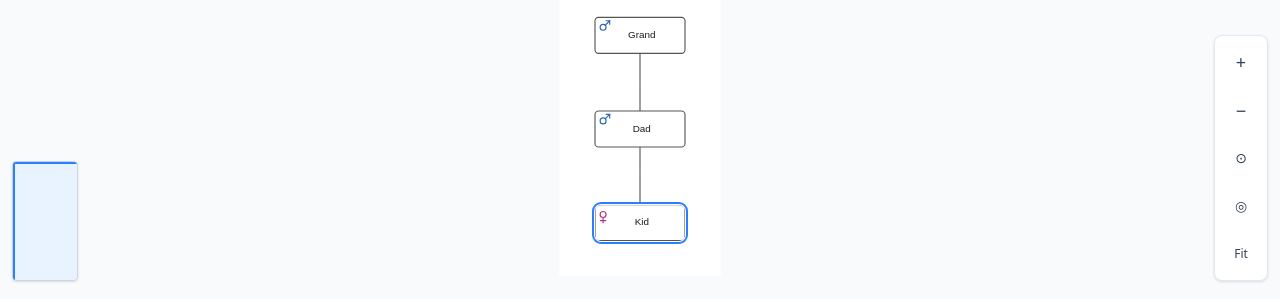
Test: EditorCanvas › focus mode dims people outside the selected person's immediate family
This screenshot has width=1280, height=299.
Click the button named "focus mode".
click(1241, 206)  # box [1219,184,1263,228]
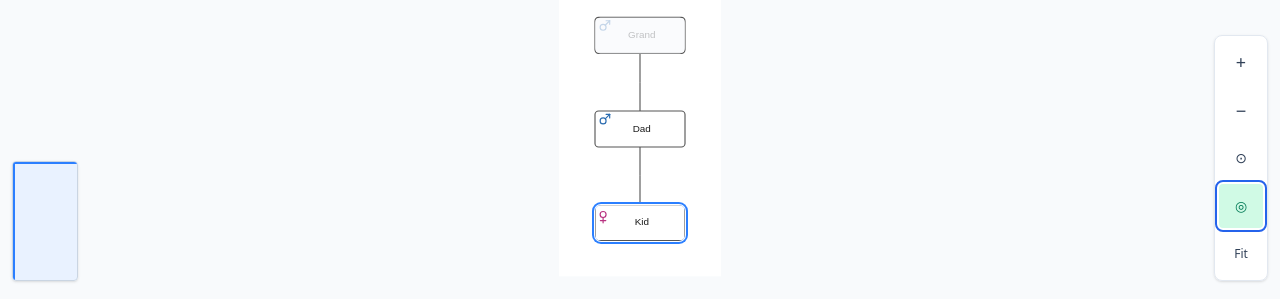
Result: the element with test id "focus-dim" is shown at [595,17,685,53]
